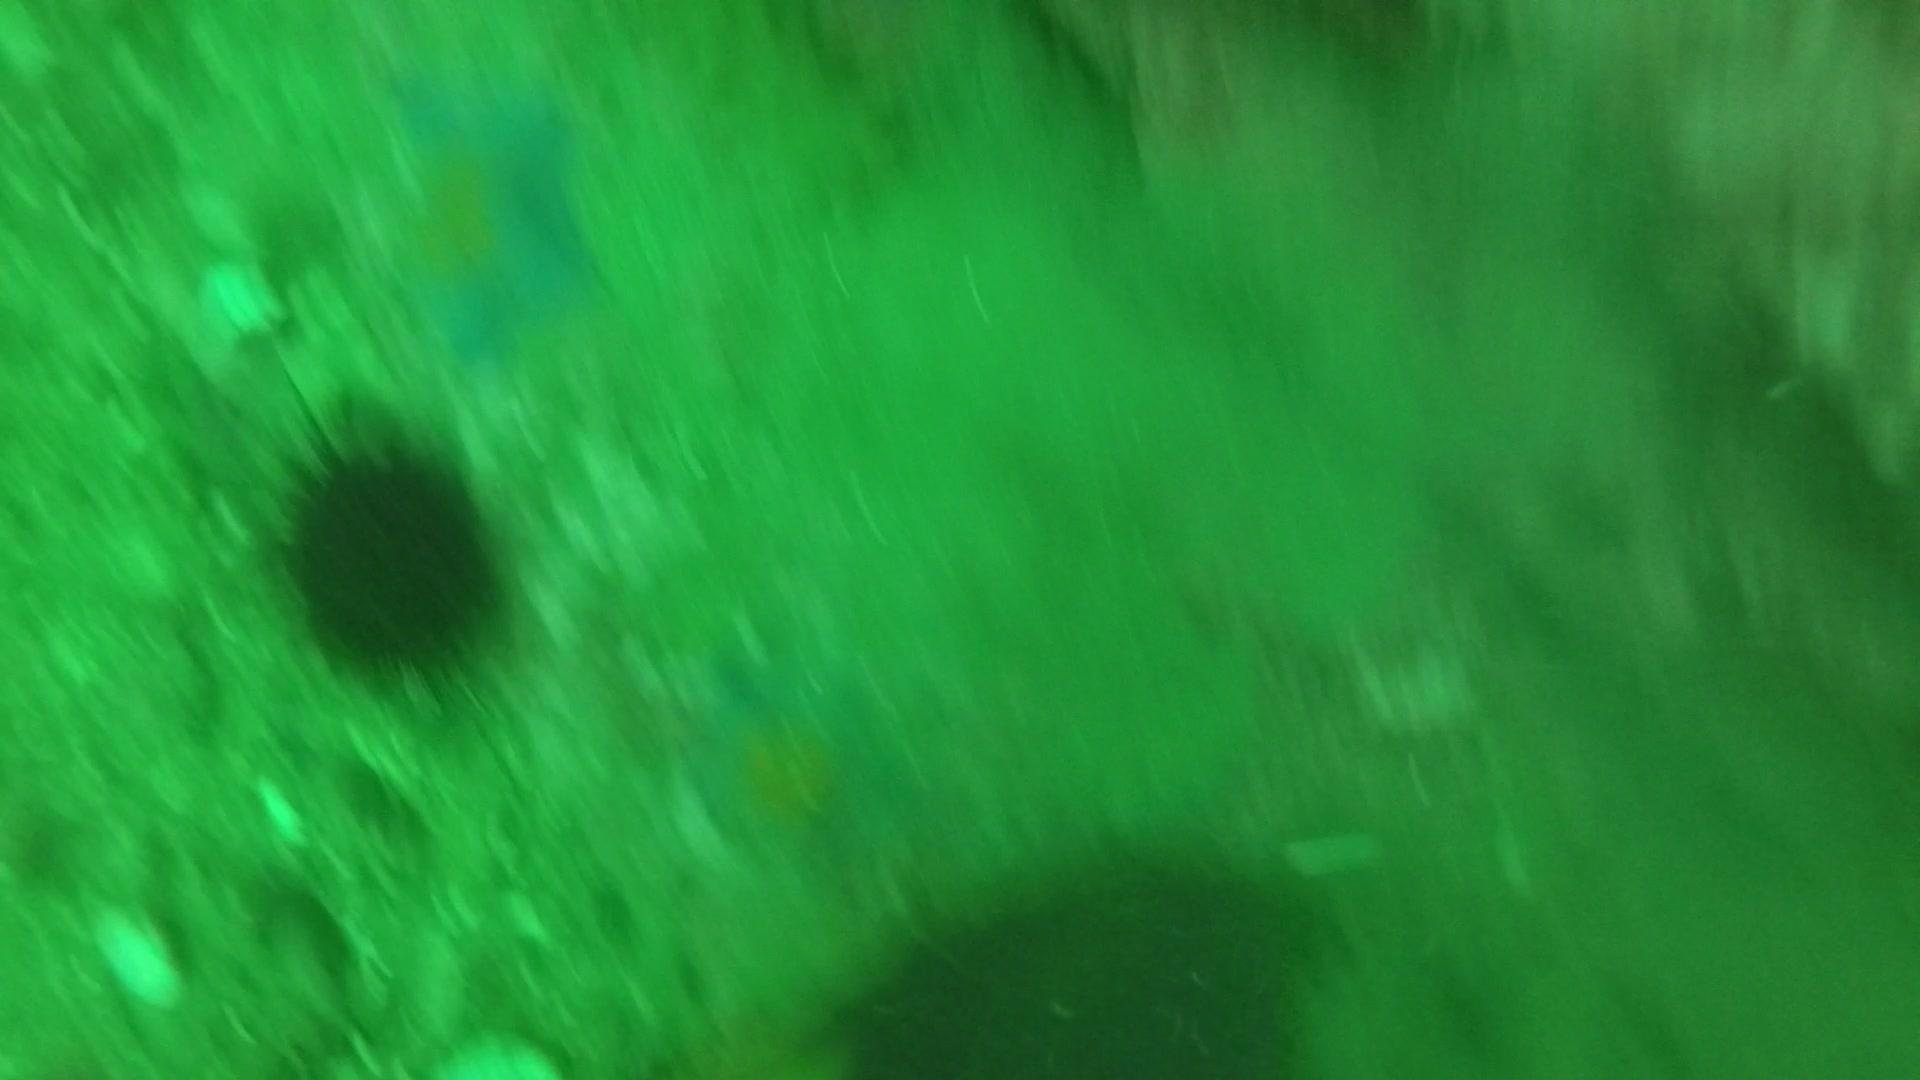echinus: (820, 832, 1333, 1075), (264, 411, 513, 686)
starfish: (376, 65, 605, 367), (674, 647, 865, 868)
